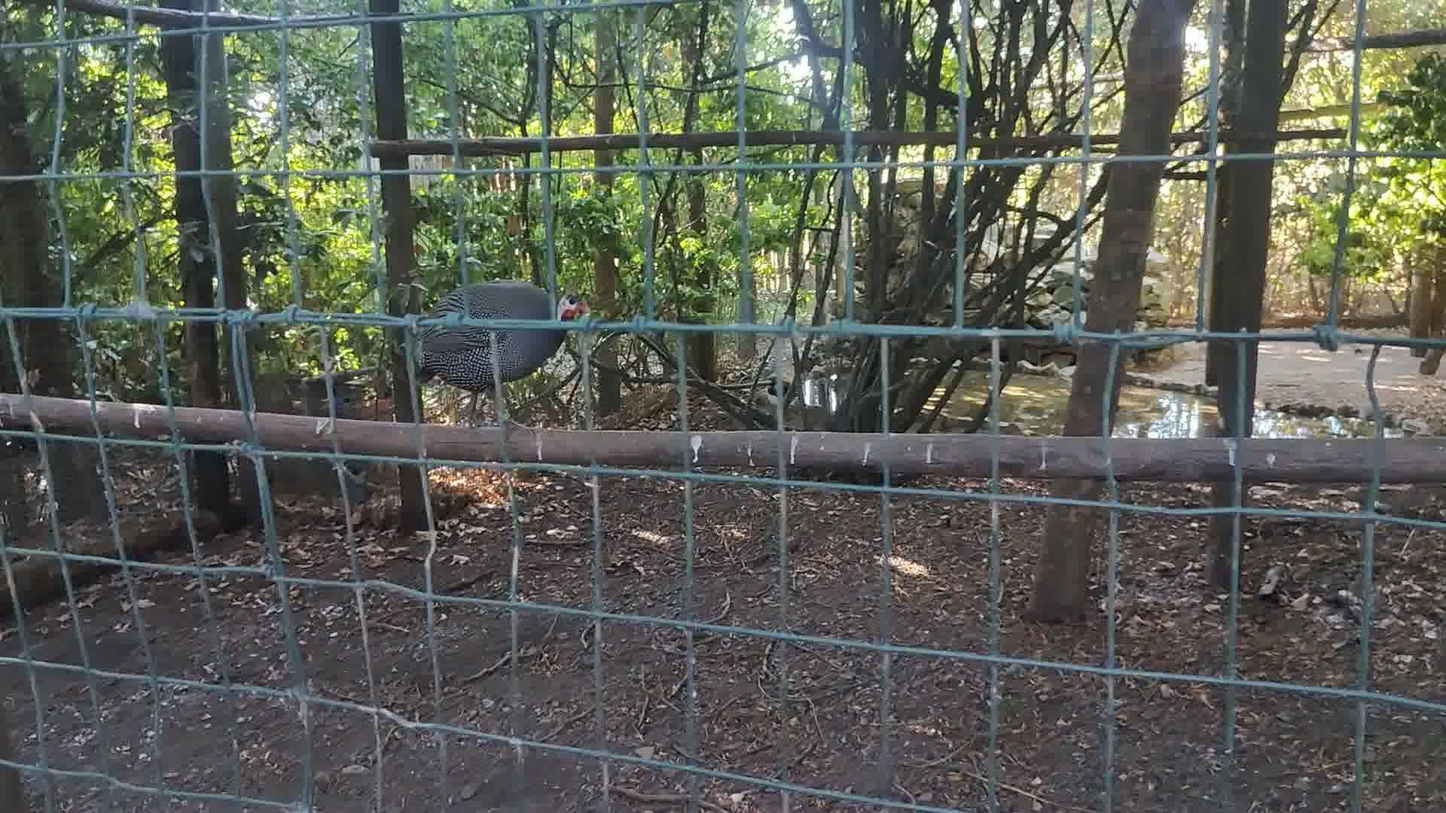apple: (413, 280, 590, 423)
